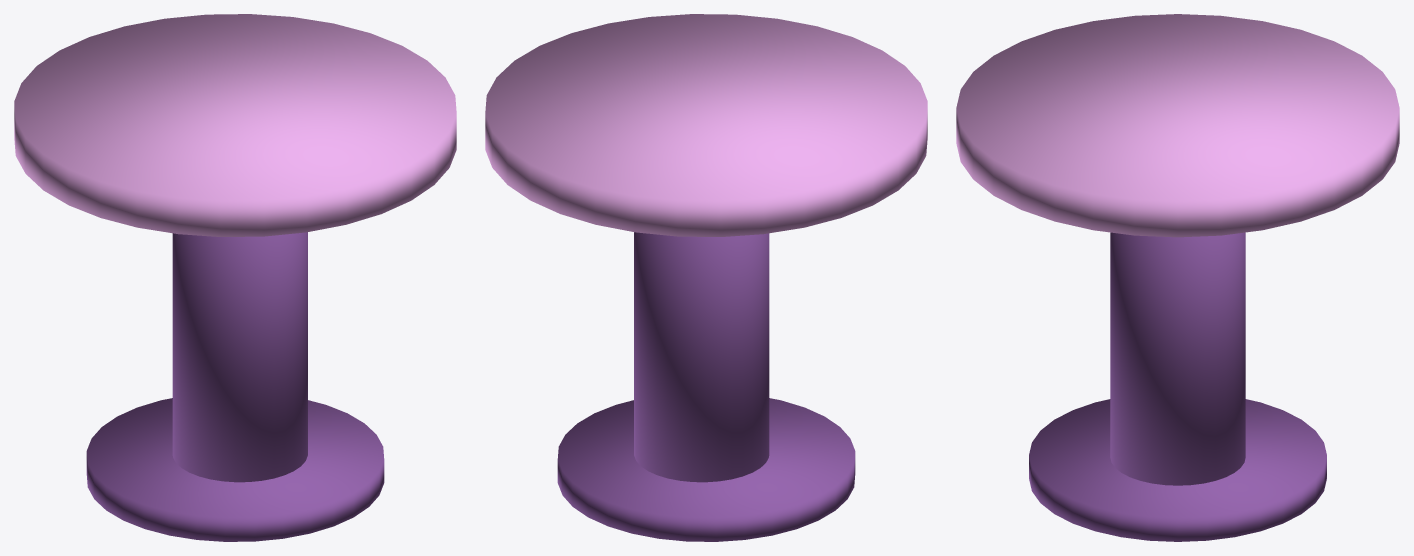
Rendered from krzeslo.gltf.
3 renders of one model, left to right at view 1: azimuth 30°, elevation 25°; view 2: azimuth 150°, elevation 25°; view 3: azimuth 270°, elevation 25°, orthographic.
Visible parts, largest first — view 1: Circle.001; view 2: Circle.001; view 3: Circle.001.
Part boxes in pixels (x1,y1,x2,y2): Circle.001: (14,14,456,541); Circle.001: (485,14,927,541); Circle.001: (956,14,1399,541).
Bounding box in the file's own units: 0.9417 × 0.8709 × 0.9417.
Materials: 1 (1 with a texture image).
